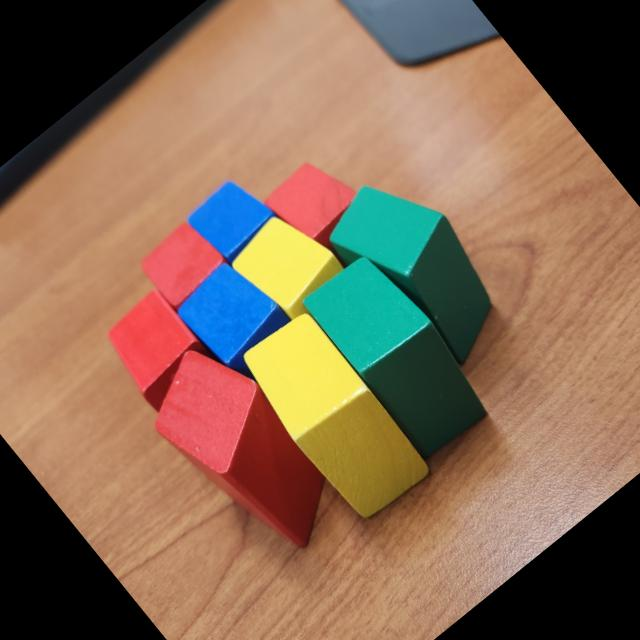blue: (169, 250, 310, 394), (182, 170, 286, 272)
green: (310, 154, 529, 387), (296, 242, 502, 465)
red: (128, 328, 358, 576), (92, 284, 222, 417), (259, 147, 376, 266), (134, 214, 234, 313)
yellow: (231, 304, 436, 526), (224, 200, 354, 332)
